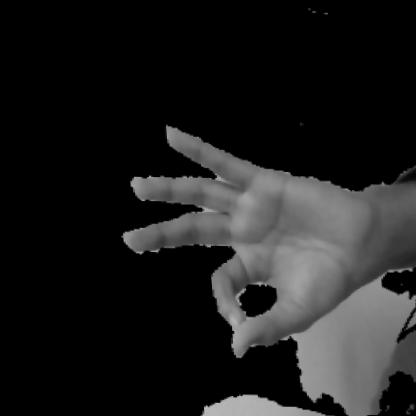ok: (103, 111, 388, 368)
